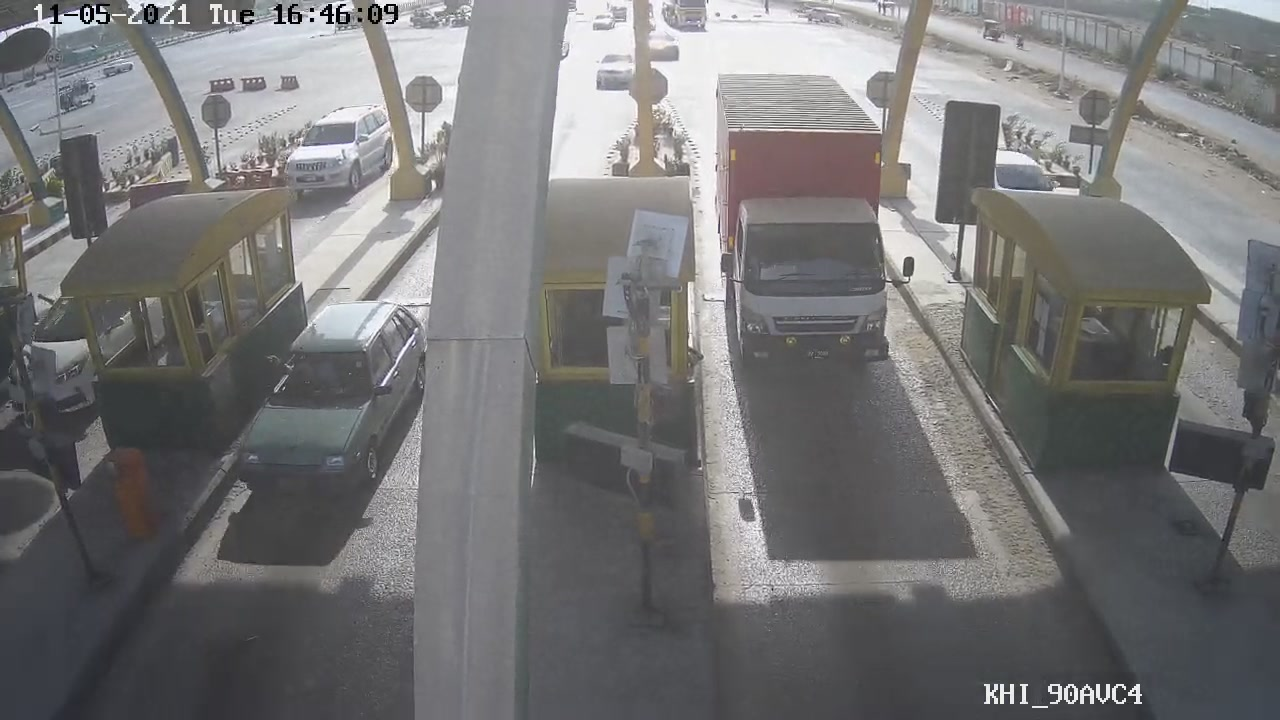F5: (697, 56, 914, 383)
